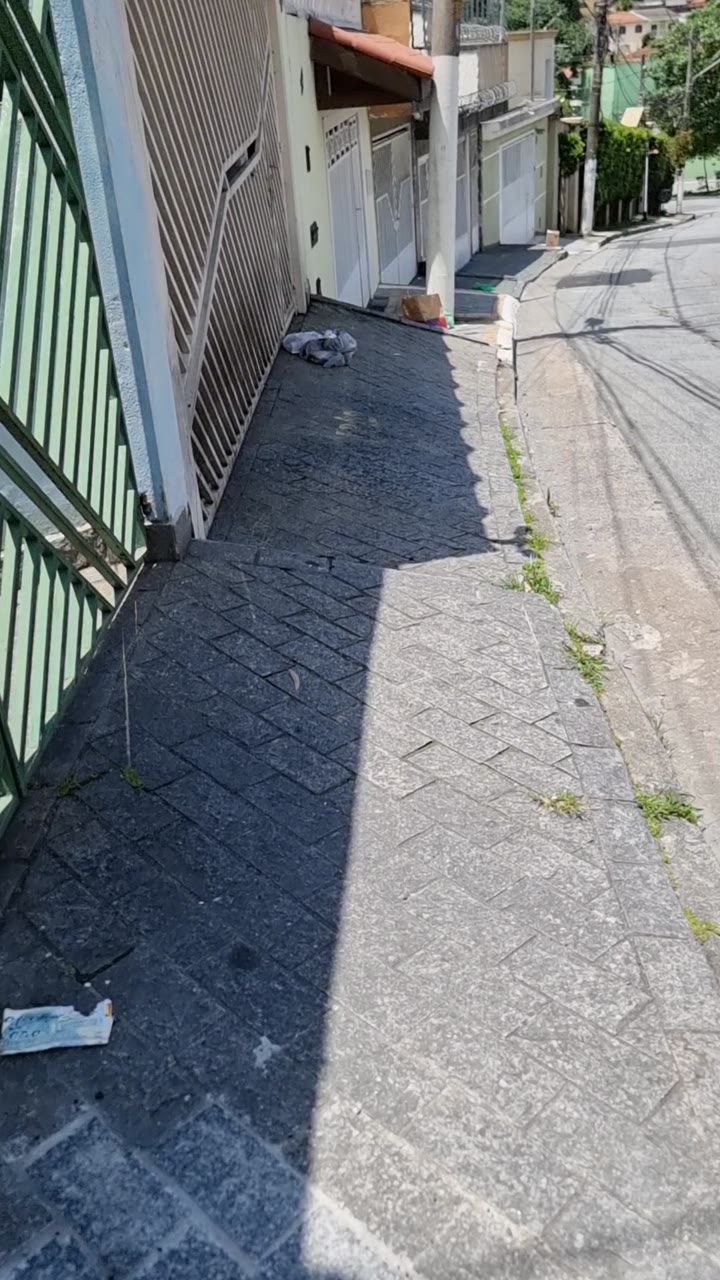obstaculo: (432, 0, 468, 282)
